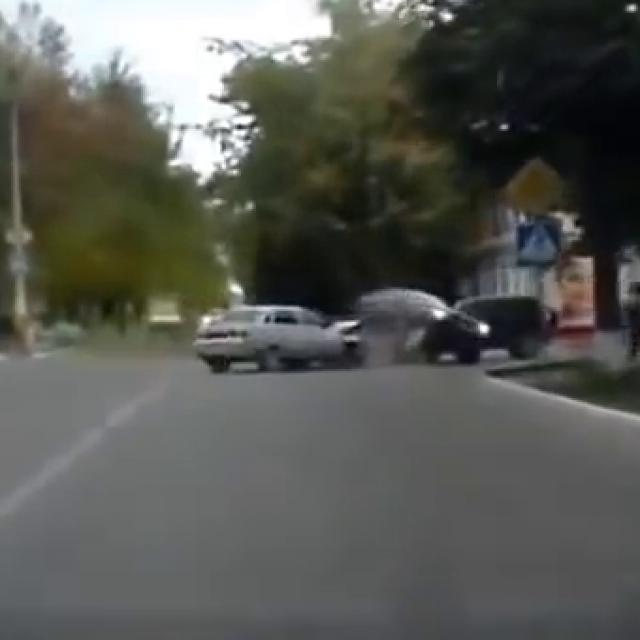accident: (198, 282, 536, 378)
